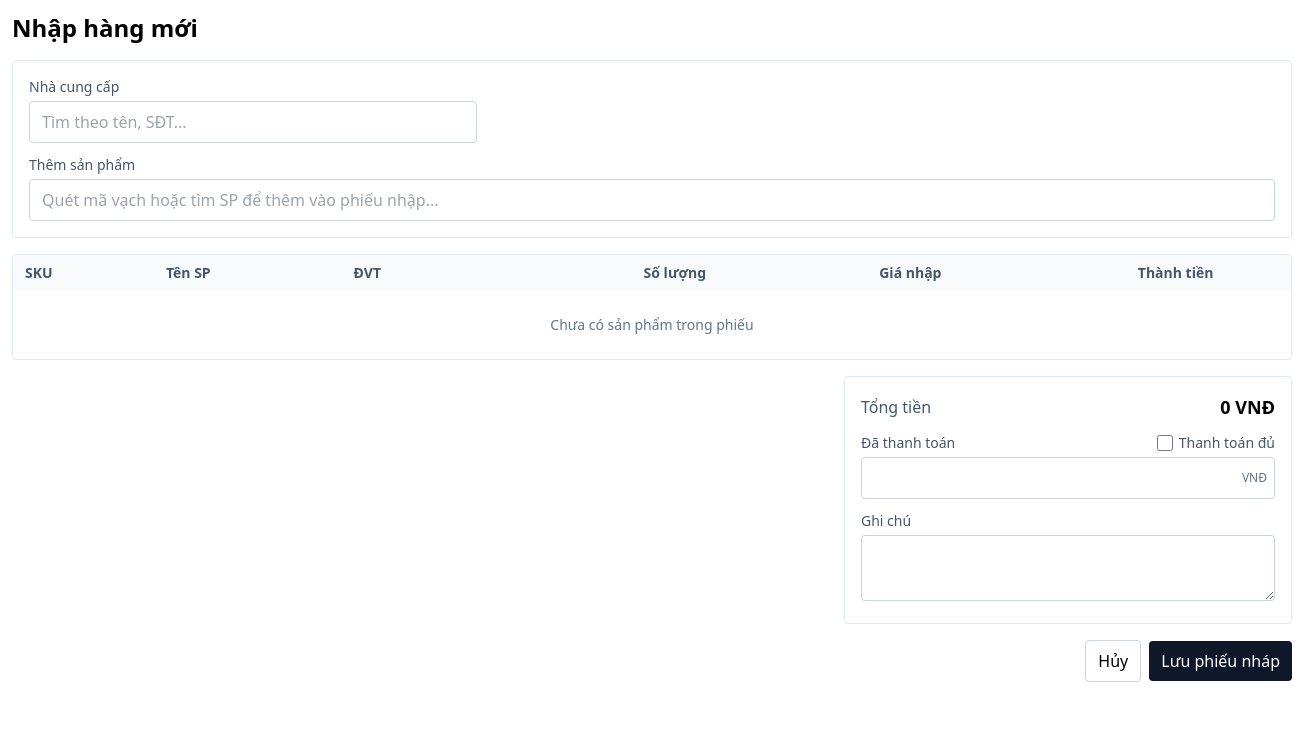
GoodsReceiptForm page › shows validation when no products
Click the button "Lưu phiếu nháp".
click(1221, 661)  # box [1149,641,1292,681]
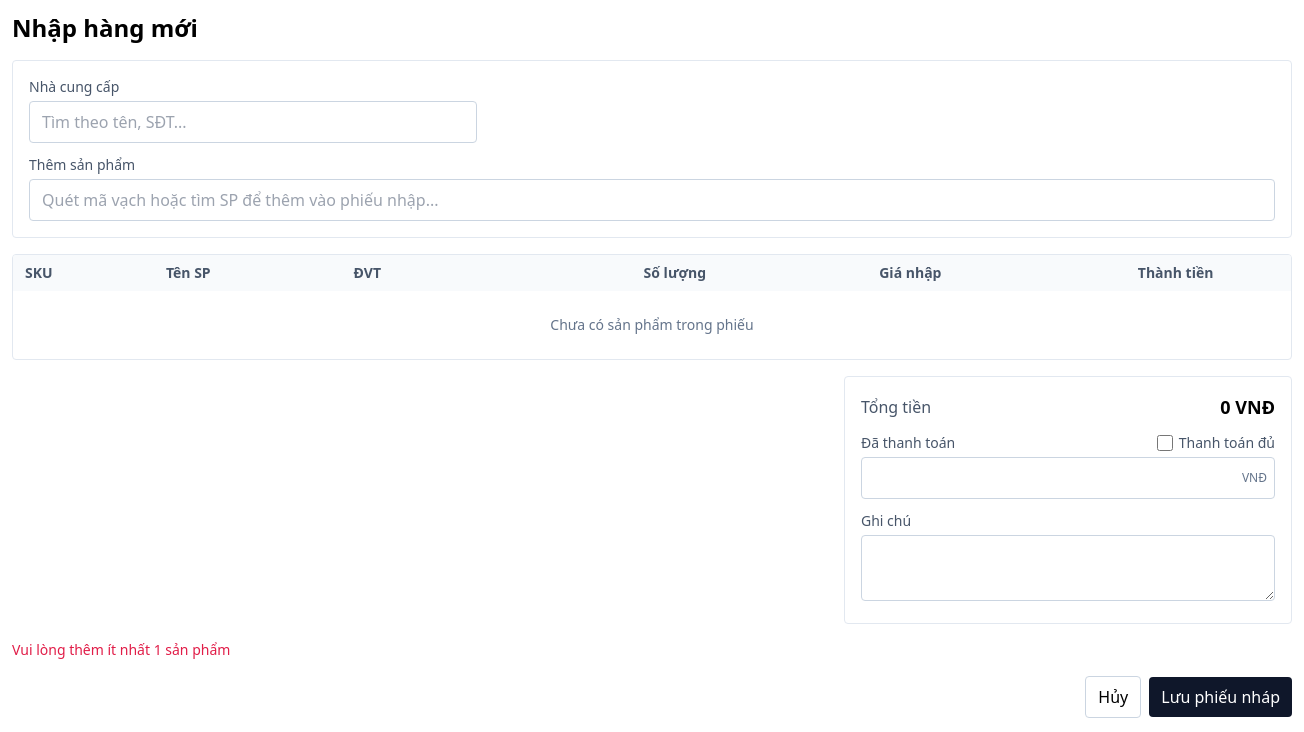
Now the message shows "sản phẩm", box [12,640,230,659]
